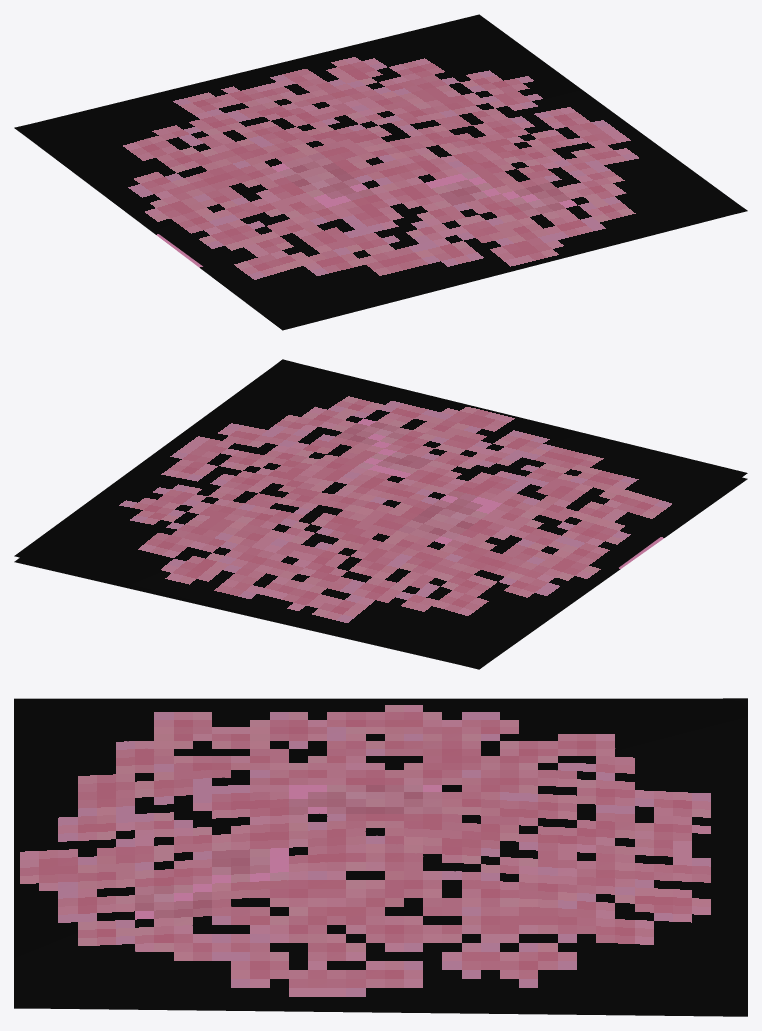
Rendered from plants_flower05_a.gltf.
3 renders of one model, top to bottom at view 1: azimuth 30°, elevation 25°; view 2: azimuth 150°, elevation 25°; view 3: azimuth 270°, elevation 25°, orthographic. The views are drawn at different scales.
Parts seen in each view (by area): view 1: plants_flower05_a; view 2: plants_flower05_a; view 3: plants_flower05_a.
Part boxes in pixels (x1,y1,x2,y2): plants_flower05_a: [14, 14, 747, 330]; plants_flower05_a: [14, 359, 747, 669]; plants_flower05_a: [14, 698, 747, 1016].
Size of the model in its own units: 2 by 0.0742 by 2.
Materials: 1 (1 with a texture image).
